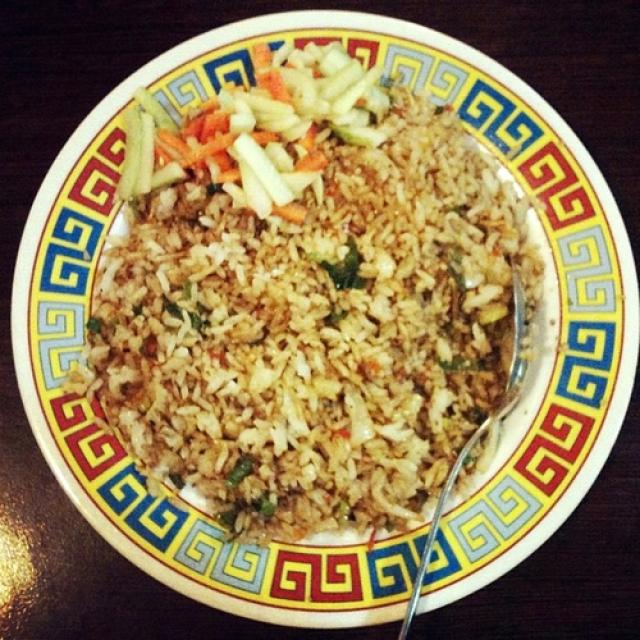米饭主食: (5, 8, 635, 626)
